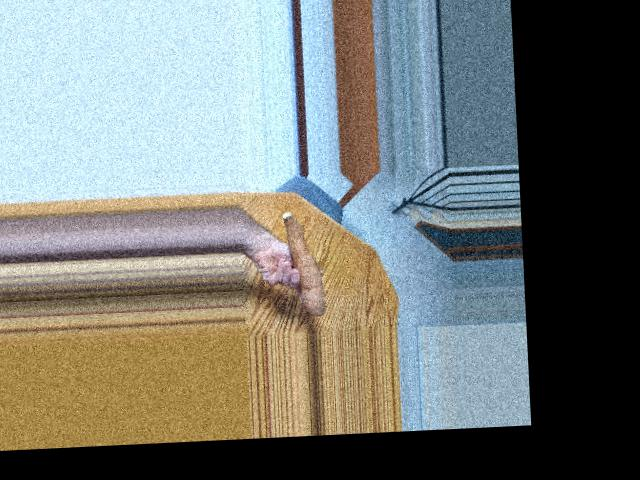sweet_potato: (276, 211, 331, 315)
